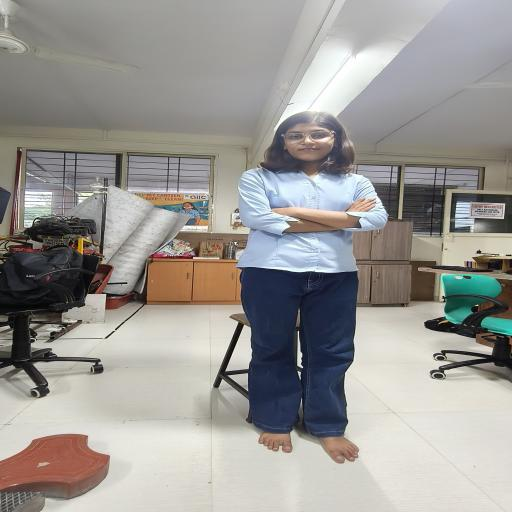survivor: (236, 110, 390, 464)
